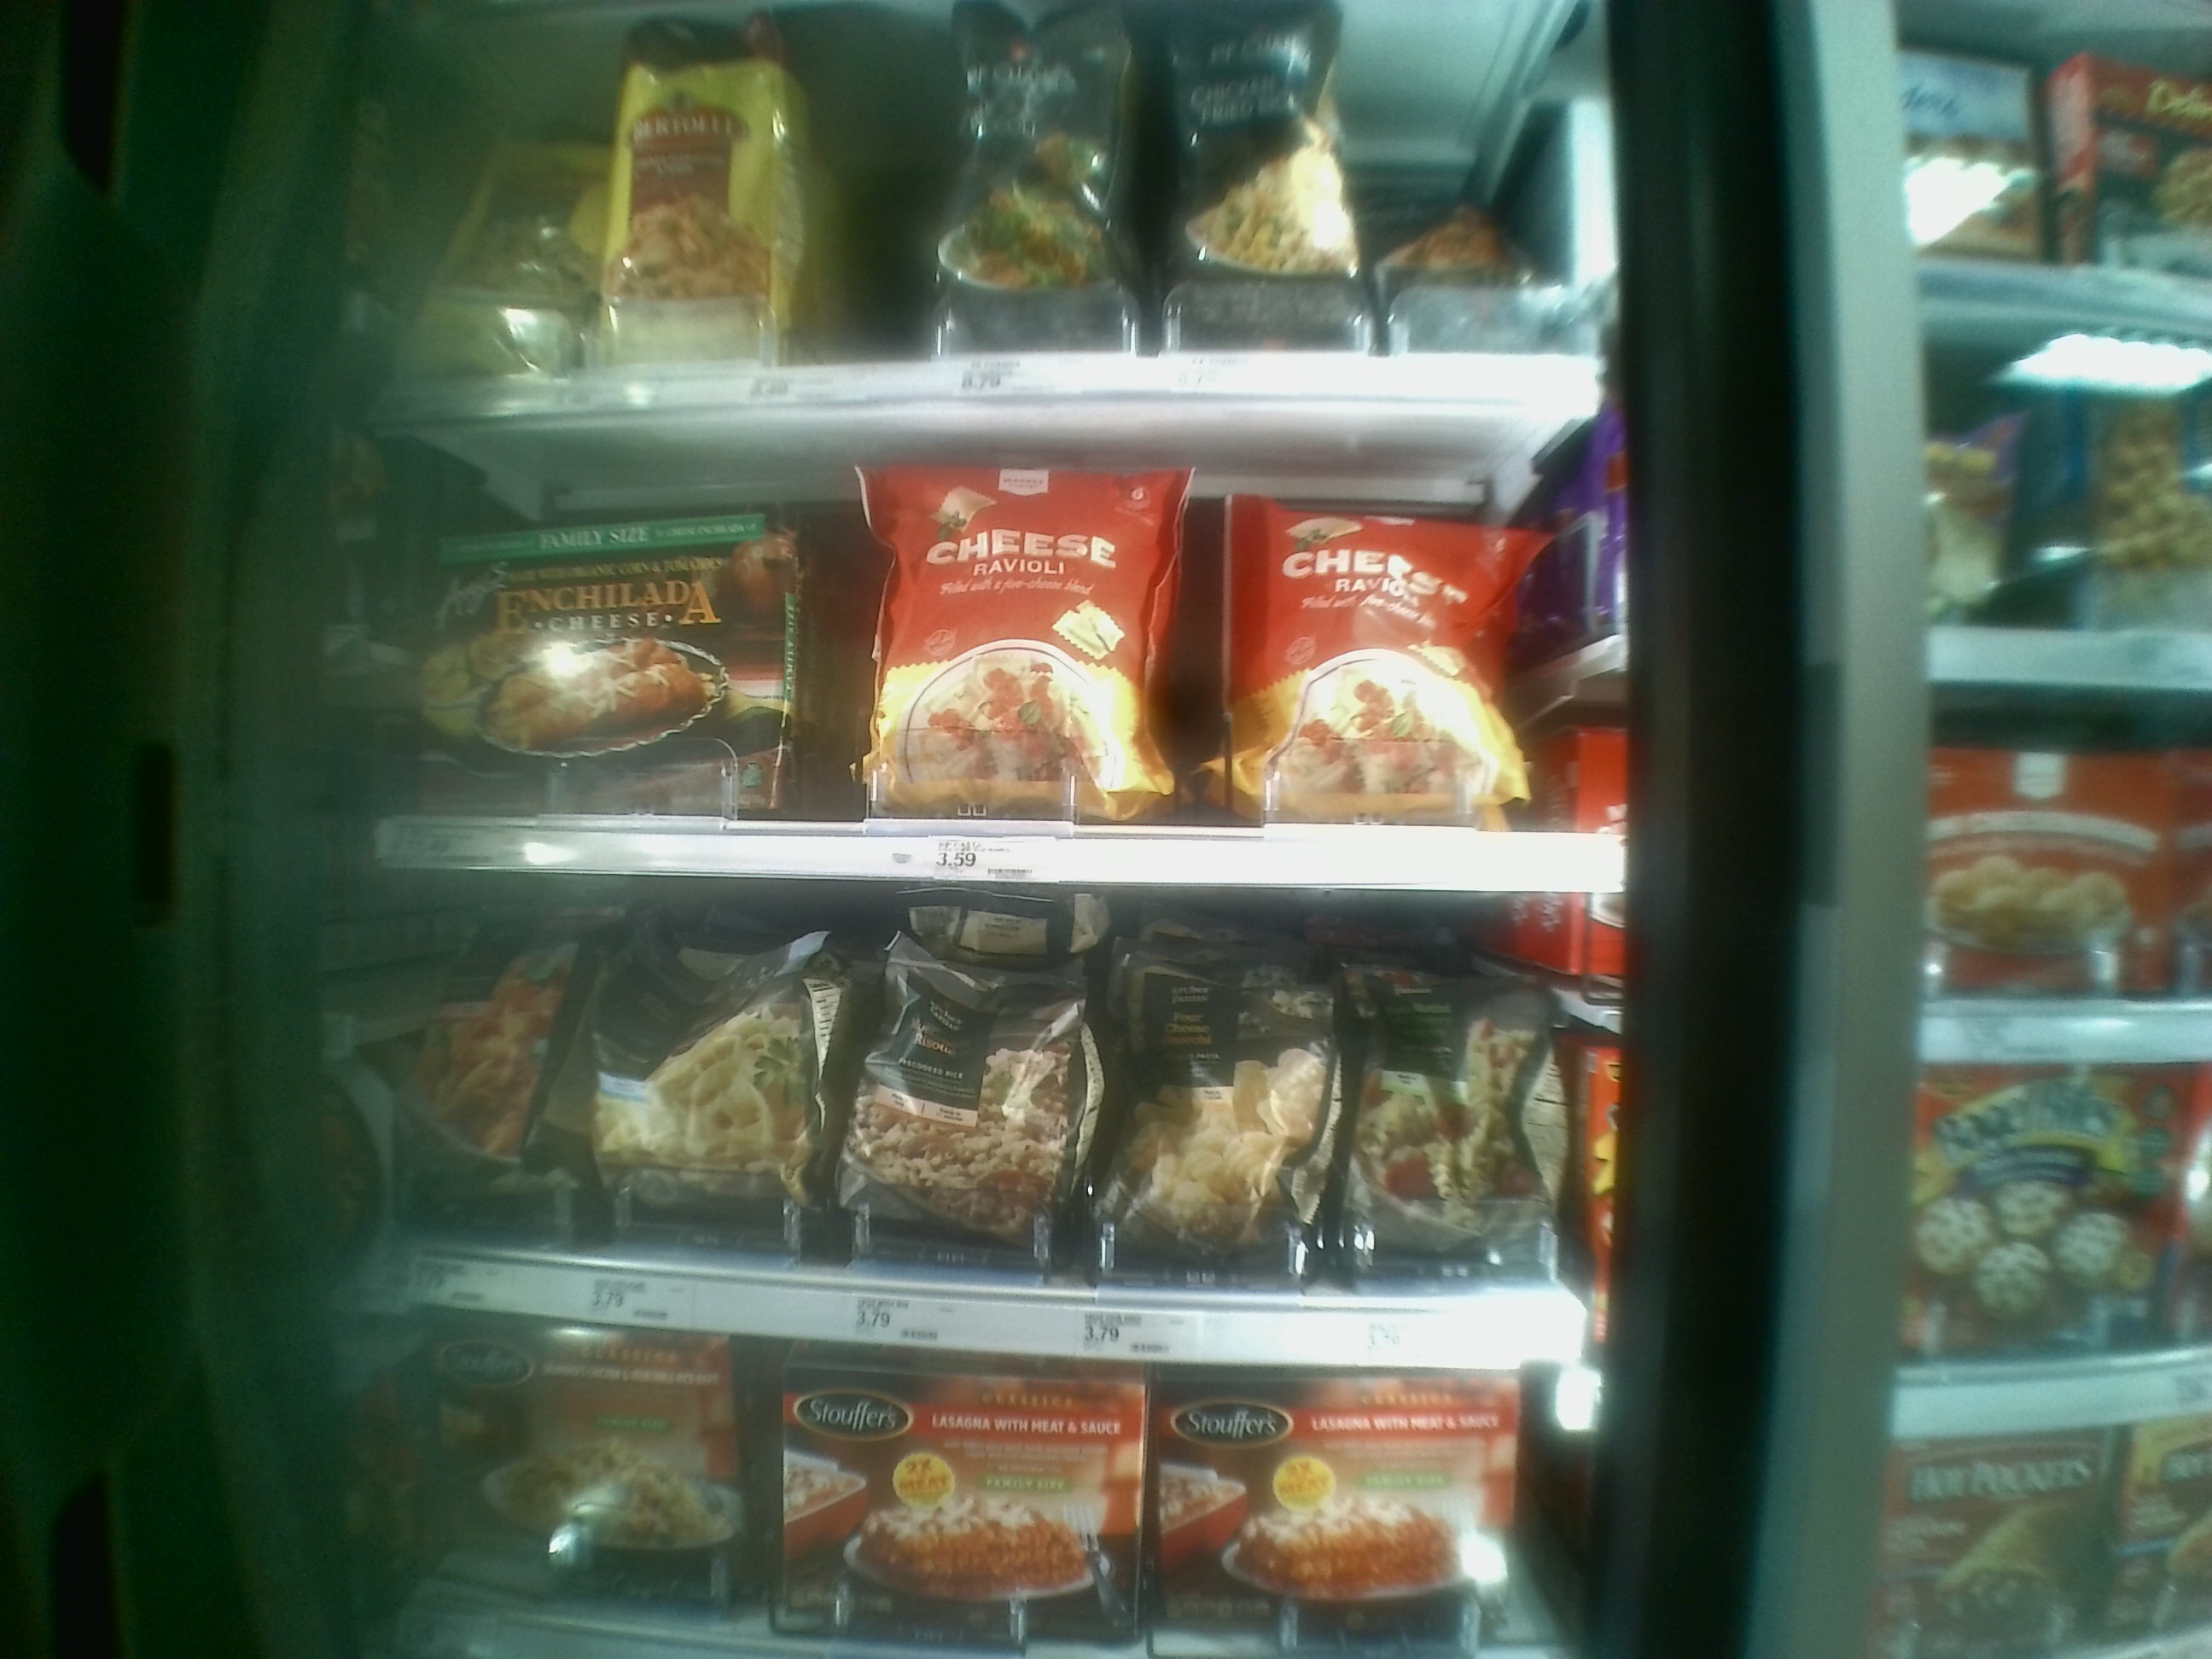shelf: (348, 847, 1634, 1356), (334, 396, 1627, 868)
